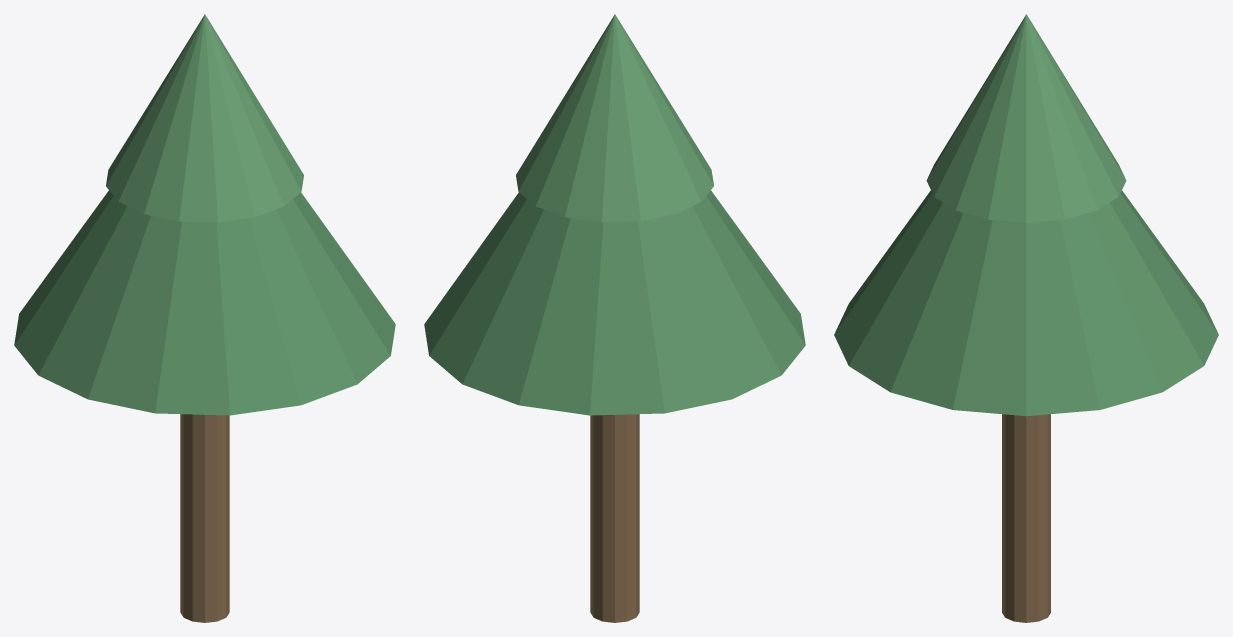
File: massive_ancient_tree.glb
3 renders of one model, left to right at view 1: azimuth 30°, elevation 25°; view 2: azimuth 150°, elevation 25°; view 3: azimuth 270°, elevation 25°, orthographic.
Visible parts, largest first — view 1: tree_0_1, tree_0_2, tree_0_0; view 2: tree_0_1, tree_0_2, tree_0_0; view 3: tree_0_1, tree_0_2, tree_0_0.
Boxes of the visible parts, x1,y1,x2,y2 form: tree_0_1: (14, 190, 395, 415); tree_0_2: (106, 14, 303, 222); tree_0_0: (180, 414, 229, 622); tree_0_1: (424, 190, 805, 415); tree_0_2: (516, 14, 713, 222); tree_0_0: (590, 414, 639, 622); tree_0_1: (834, 190, 1218, 416); tree_0_2: (926, 14, 1126, 222); tree_0_0: (1002, 414, 1050, 622).
Bounding box in the file's own units: 2.6 × 4.47 × 2.6.
